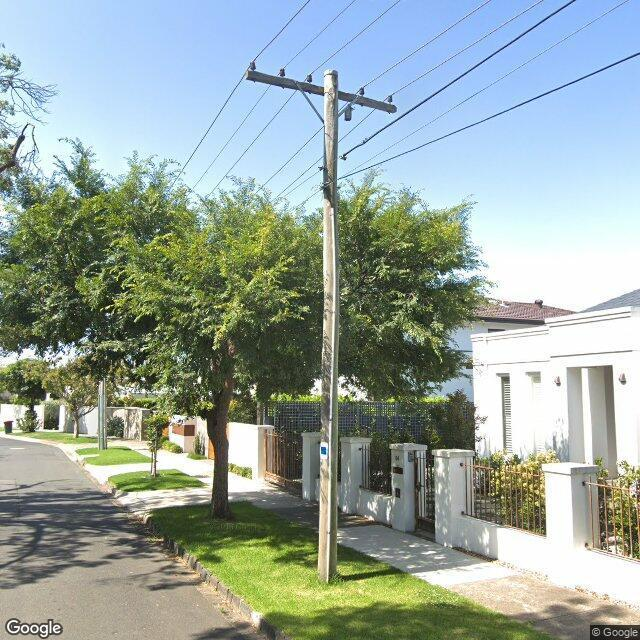crossarm: (246, 70, 396, 113)
timber-pole: (318, 71, 338, 582)
